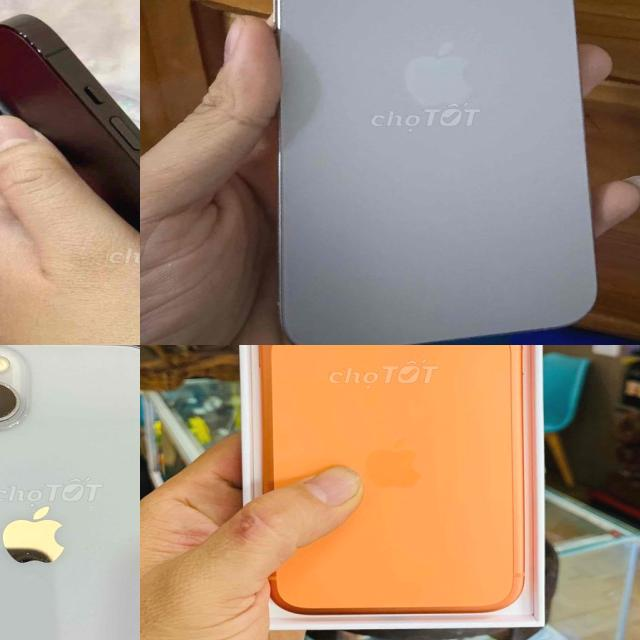gen_14: (0, 0, 140, 345), (0, 345, 140, 640)
gen_15: (262, 0, 600, 345)
gen_17: (229, 345, 547, 638)
